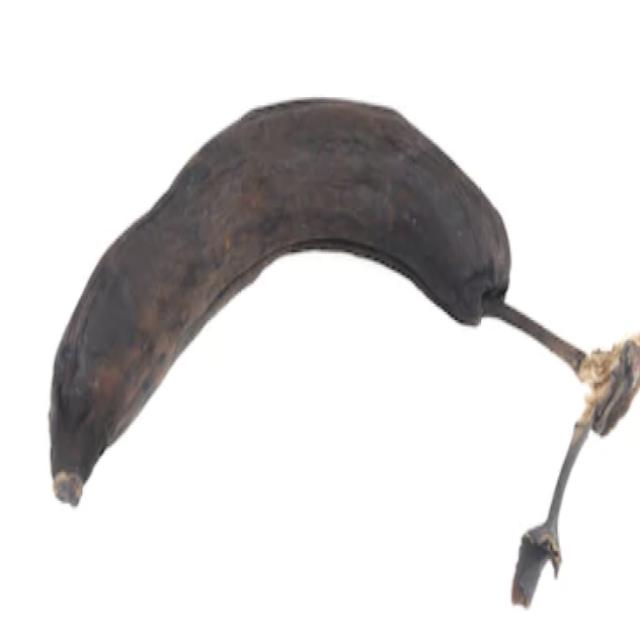fresh-banana: (47, 92, 639, 606)
